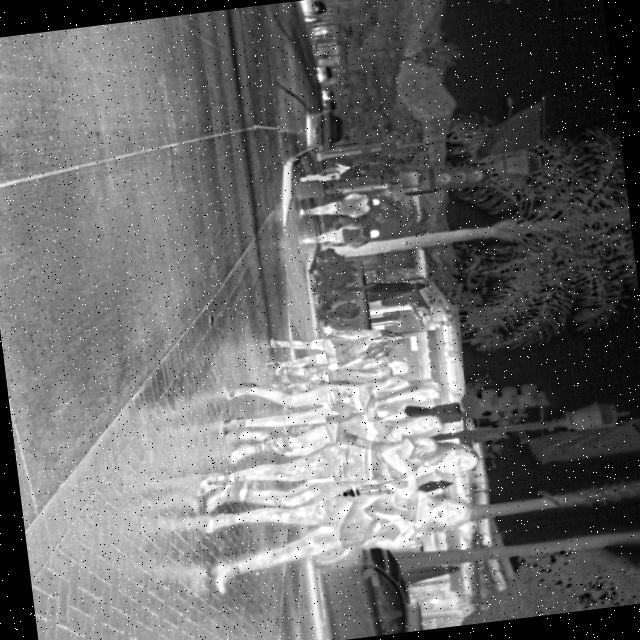Pedestrian: (195, 475, 480, 596), (192, 425, 482, 521), (211, 358, 444, 439), (222, 401, 446, 471), (263, 313, 407, 374), (268, 352, 409, 395), (296, 189, 382, 225), (300, 219, 382, 255), (318, 160, 350, 178)
Vehicle: (311, 537, 414, 640), (300, 105, 346, 152)
